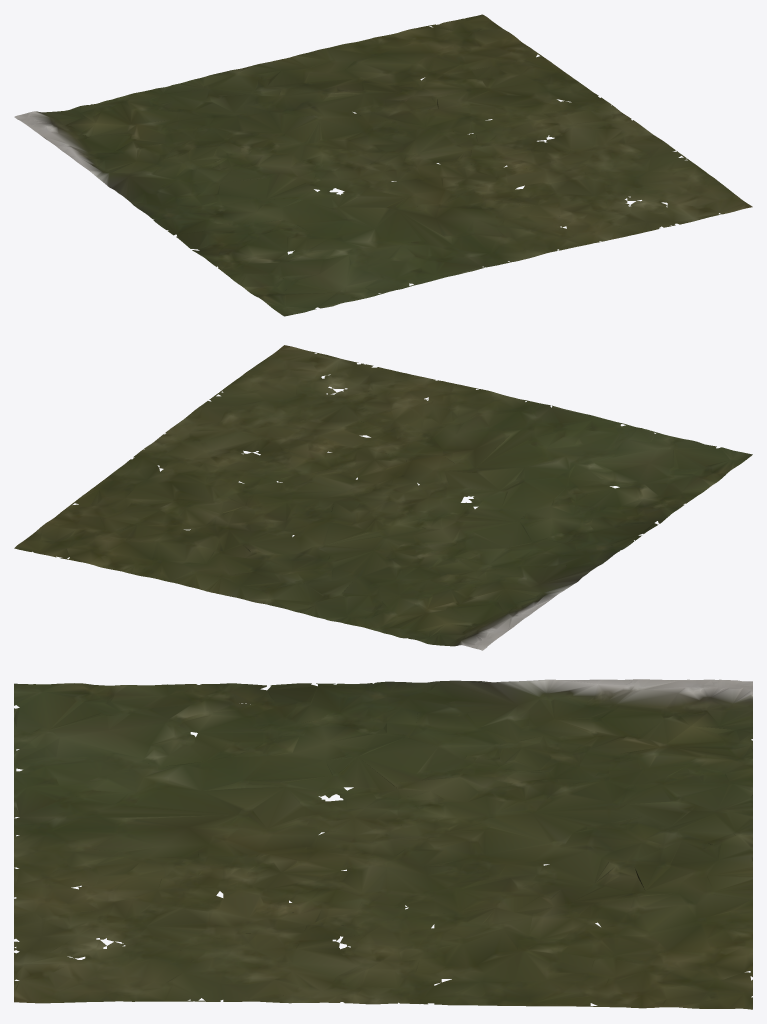
The model's file is coarse.glb.
3 views of the same model, one above another, from view 1: azimuth 30°, elevation 25°; view 2: azimuth 150°, elevation 25°; view 3: azimuth 270°, elevation 25° (orthographic). The views are drawn at different scales.
Bounding box in the file's own units: 3.6 × 0.0984 × 3.6.
